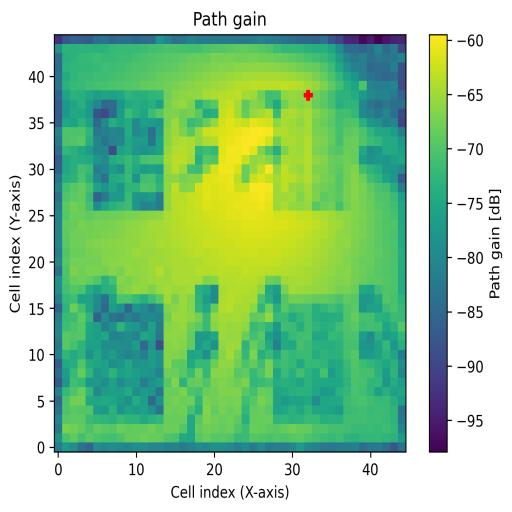Concrete: (273, 90, 344, 210)
Glass: (94, 90, 164, 211)
Metal: (274, 304, 344, 425)
Wood: (86, 304, 164, 414)
